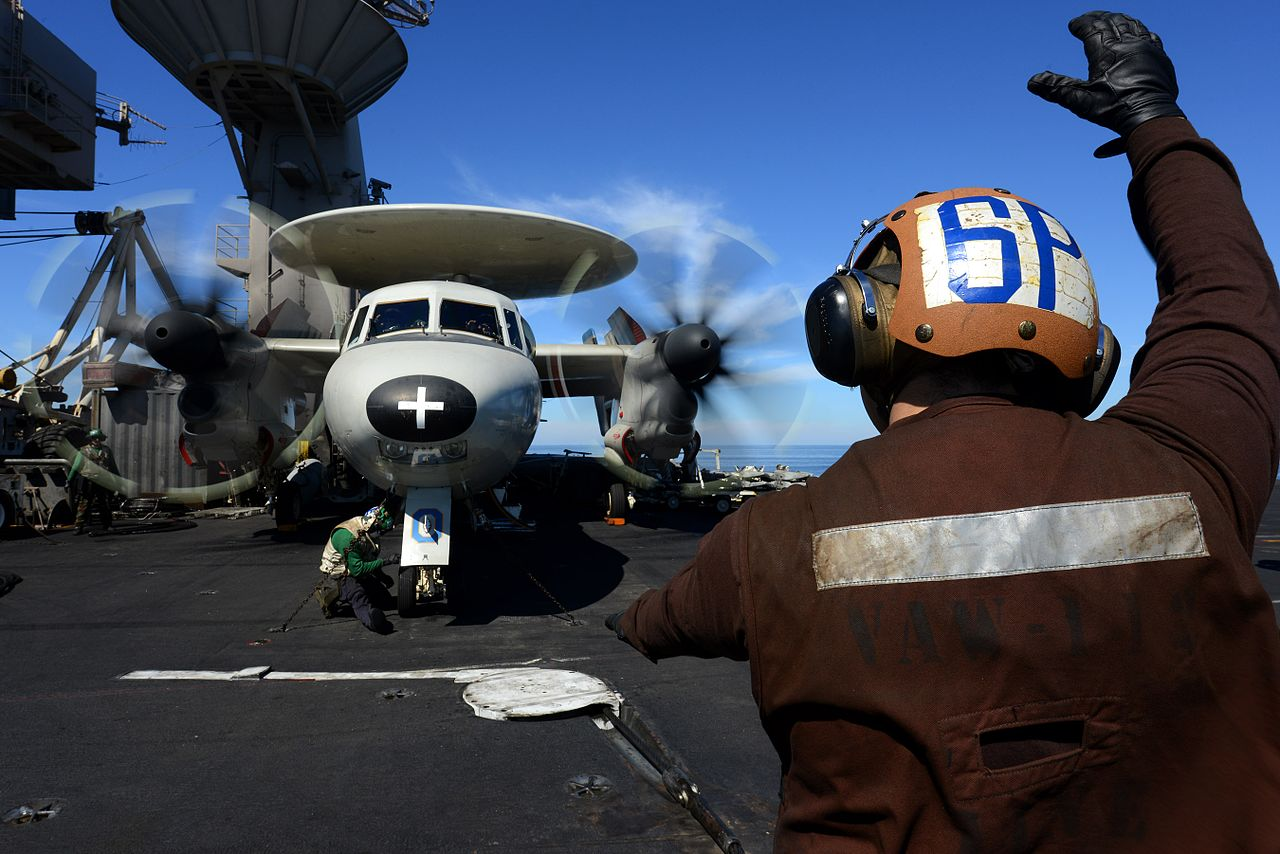E2: (13, 189, 815, 618)
